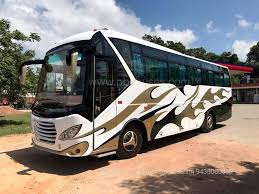bus: (18, 27, 234, 159)
